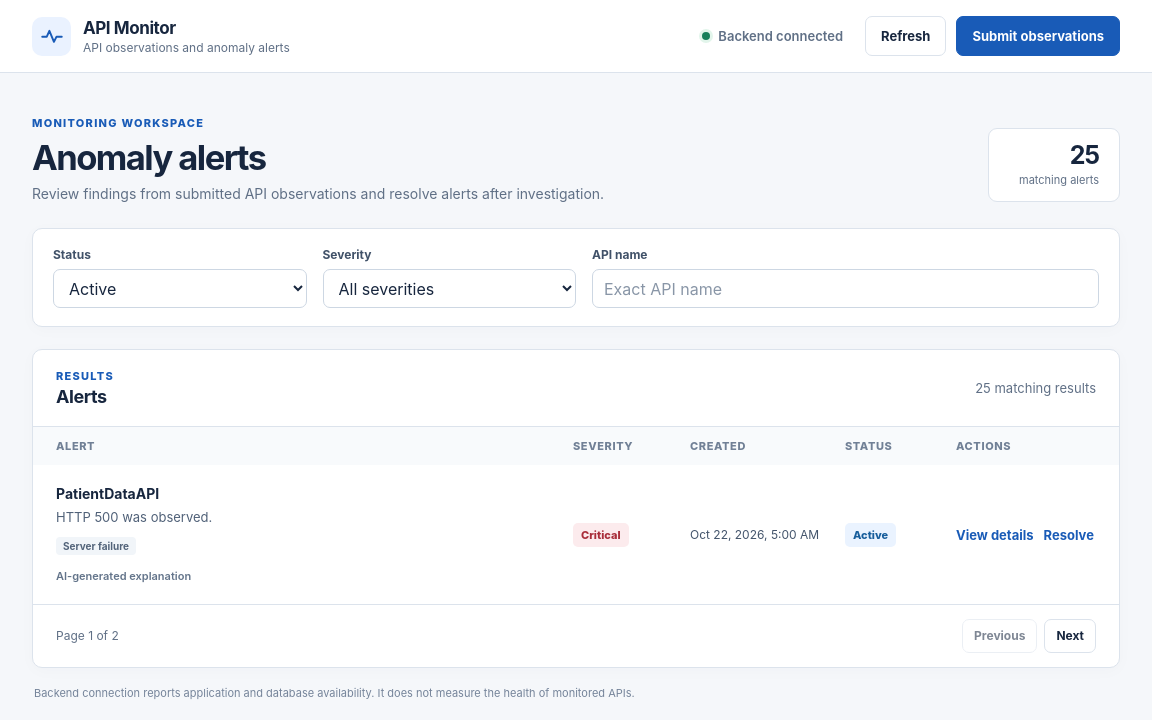
it: filter changes reset pagination to the first page
Expected: the text "PatientDataAPI" is shown, x1=56 y1=486 x2=159 y2=502
Click the button "Next". click: (1070,636)
box: x1=1044 y1=619 x2=1096 y2=653
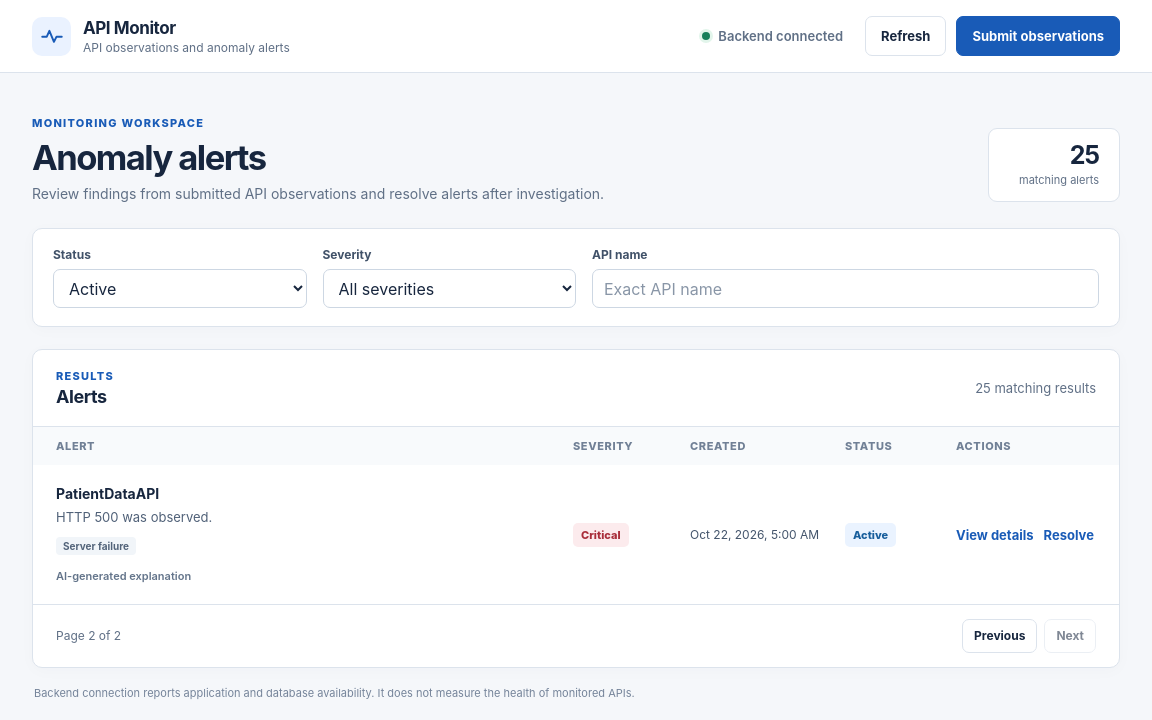
Select "Critical" in the dropdown labelled "Severity". click: (449,289)
box: x1=322 y1=270 x2=576 y2=308
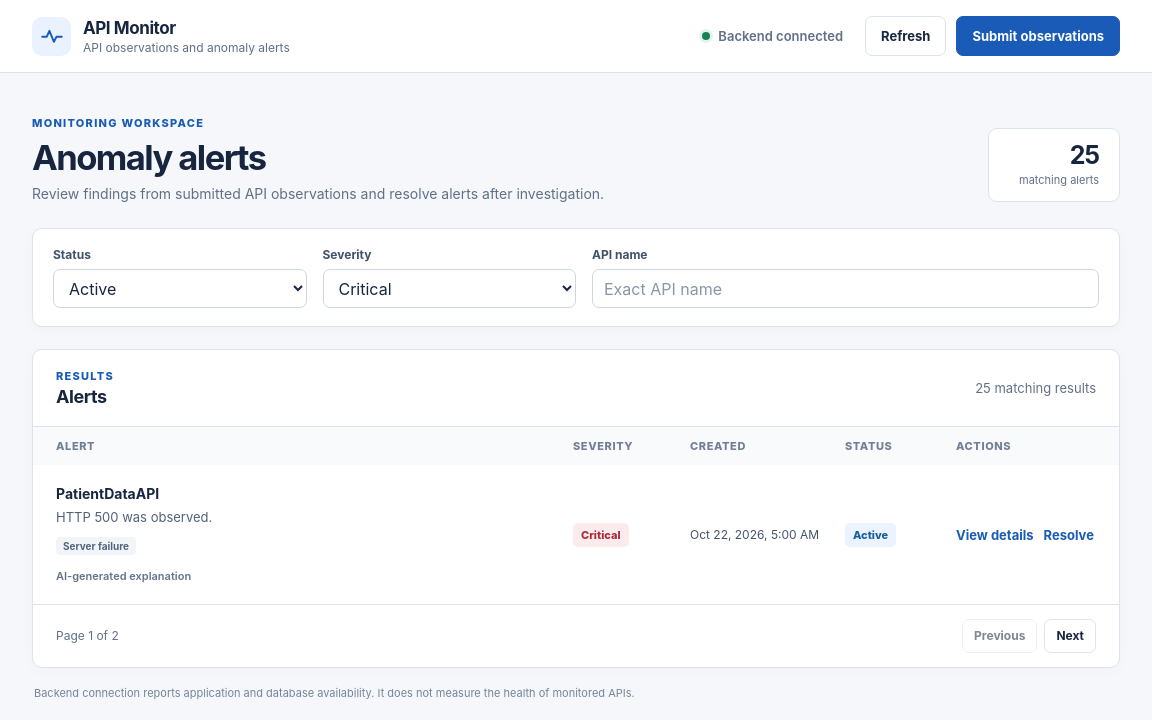
Result: the text "Page 1 of 2" is shown at x1=56 y1=628 x2=119 y2=643
